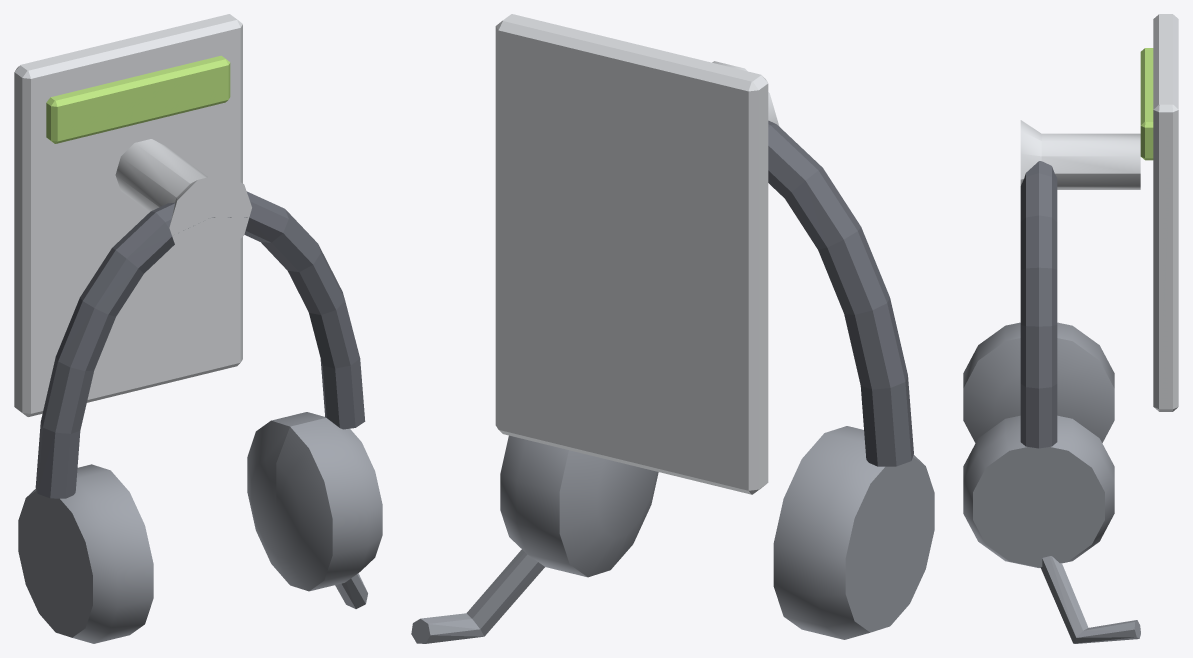
The model's file is laser-tag-arena-and-activity-centre-headset-on-hook-e723b166__34495.glb.
3 views of the same model, side by side, from view 1: azimuth 30°, elevation 25°; view 2: azimuth 150°, elevation 25°; view 3: azimuth 270°, elevation 25° (orthographic). The views are drawn at different scales.
Parts seen in each view (by area): view 1: headset-on-hook; view 2: headset-on-hook; view 3: headset-on-hook.
Part boxes in pixels (box(x1,y1,x2,y2)): headset-on-hook: box(14, 14, 382, 643); headset-on-hook: box(411, 14, 934, 643); headset-on-hook: box(963, 14, 1178, 643).
Bounding box in the file's own units: 0.2642 × 0.3969 × 0.1526.
